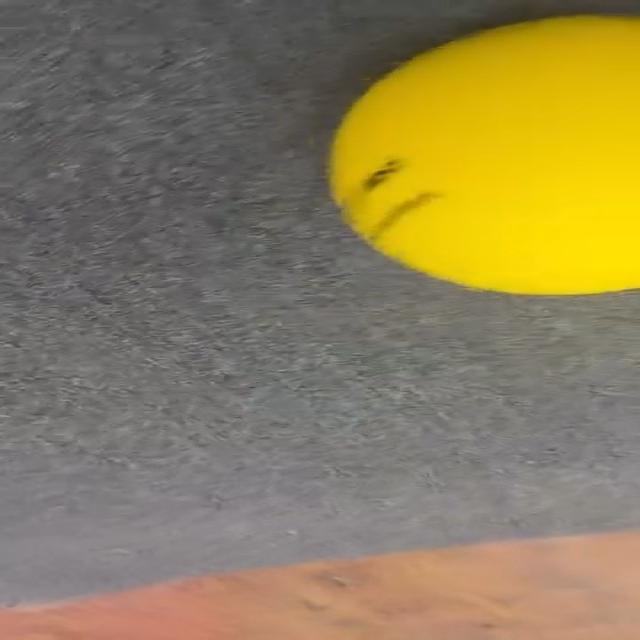Fuels: (329, 9, 640, 297)
